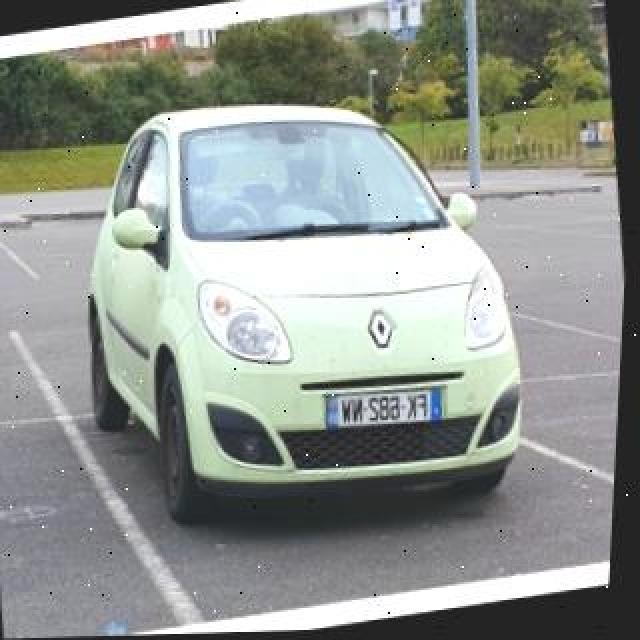Autre: (320, 387, 447, 429)
